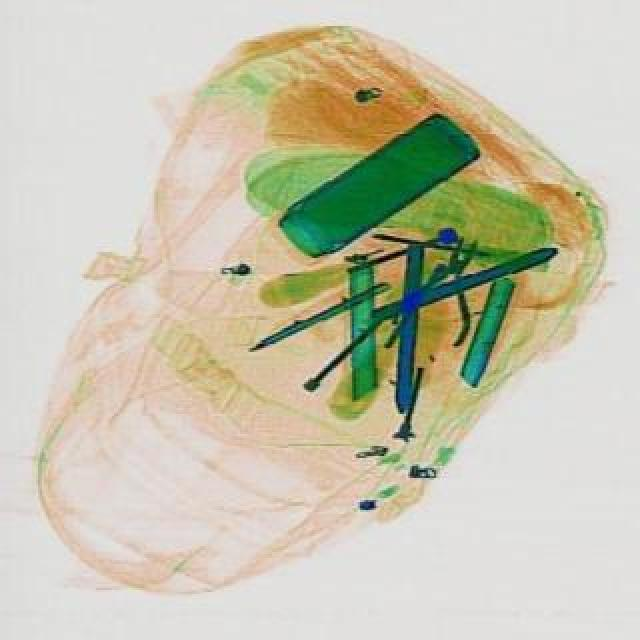wrench: (382, 226, 498, 374)
